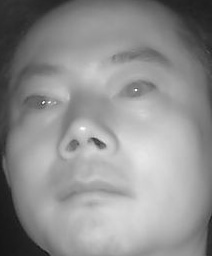eye: (115, 77, 160, 105), (21, 91, 62, 115)
mouth: (56, 170, 135, 212)
